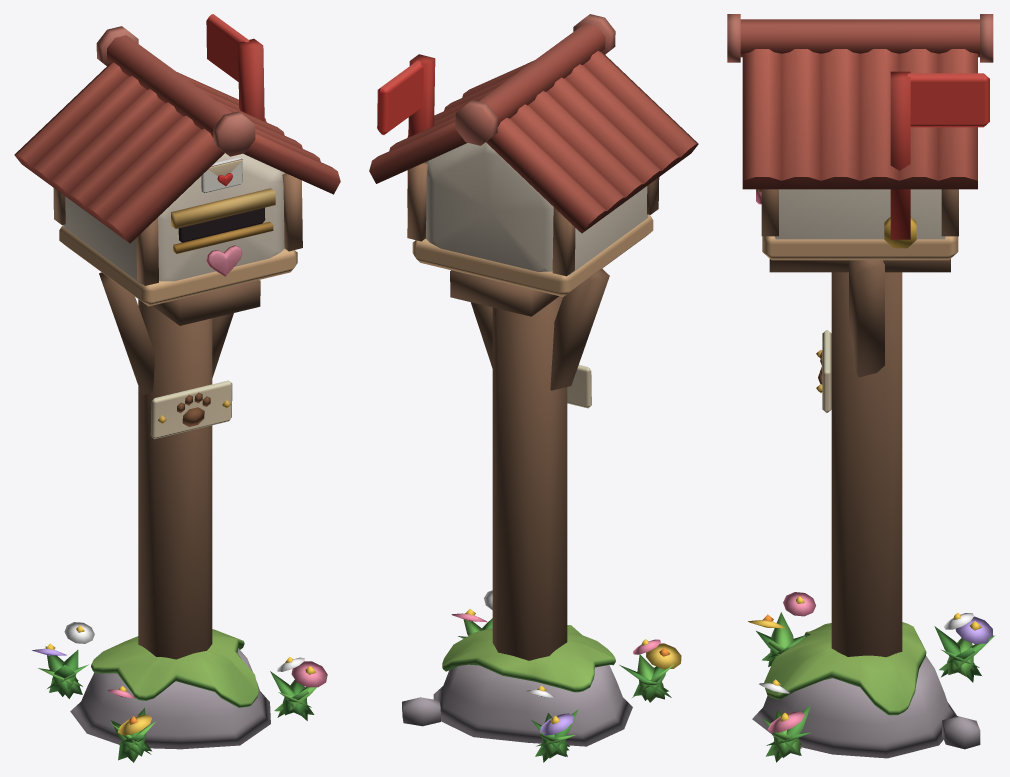
File: ext-mailbox.glb
The picture shows the model from 3 angles, left to right: view 1: azimuth 30°, elevation 25°; view 2: azimuth 150°, elevation 25°; view 3: azimuth 270°, elevation 25°; orthographic projection. The views are drawn at different scales.
Parts seen in each view (by area): view 1: ext-mailbox; view 2: ext-mailbox; view 3: ext-mailbox.
Part boxes in pixels (bbox=[...]): ext-mailbox: bbox=[14, 14, 340, 762]; ext-mailbox: bbox=[369, 14, 698, 762]; ext-mailbox: bbox=[727, 14, 994, 762].
Bounding box in the file's own units: 0.4209 × 1.14 × 0.3996.
